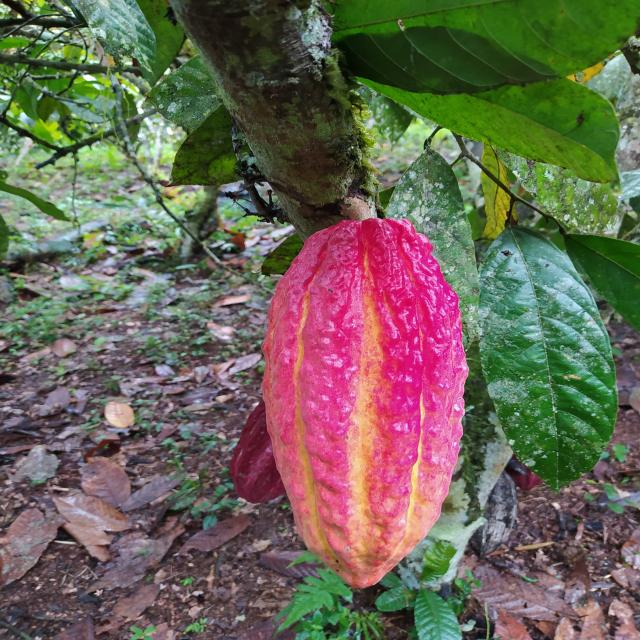Sana: (257, 218, 467, 588)
